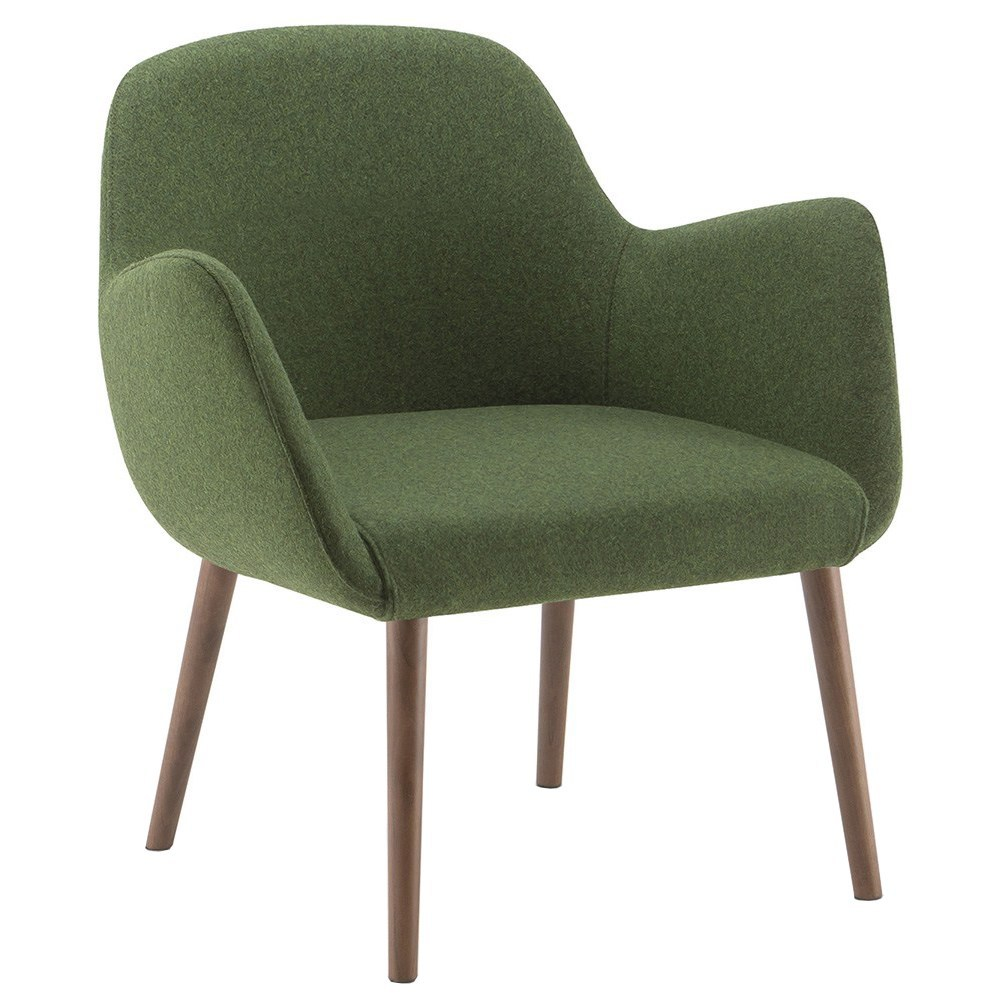chairs: (85, 22, 908, 984)
